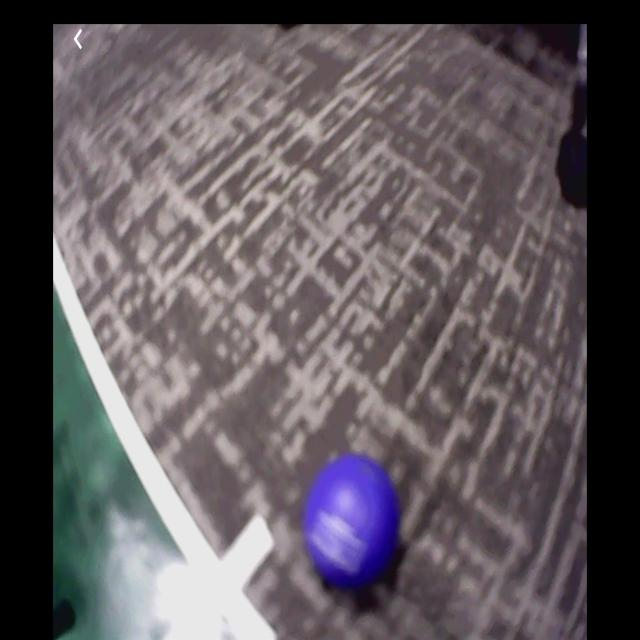ball: (310, 456, 401, 587)
